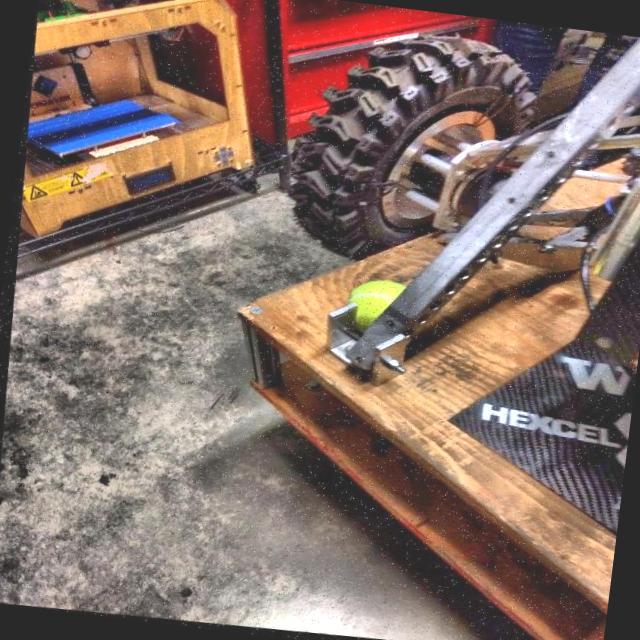tennis-ball: (342, 272, 421, 344)
